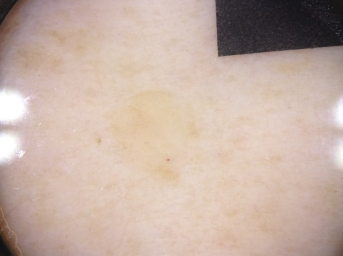seborrheic keratosis: (85, 83, 221, 187)
